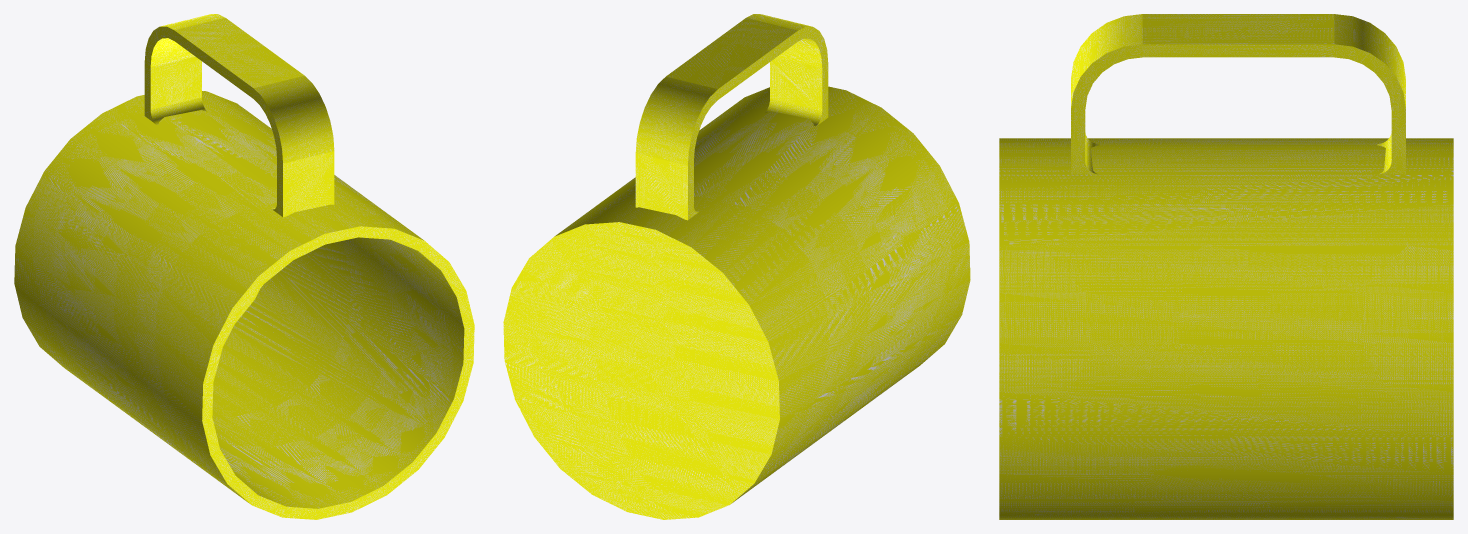
Rendered from model_scale.obj.
The picture shows the model from 3 angles, left to right: view 1: azimuth 30°, elevation 25°; view 2: azimuth 150°, elevation 25°; view 3: azimuth 270°, elevation 25°; orthographic projection. The views are drawn at different scales.
Visible parts, largest first — view 1: mesh1_mesh1-geometry, mesh2_mesh2-geometry; view 2: mesh1_mesh1-geometry, mesh2_mesh2-geometry; view 3: mesh1_mesh1-geometry, mesh2_mesh2-geometry.
Boxes of the visible parts, x1,y1,x2,y2 form: mesh1_mesh1-geometry: [14, 91, 474, 519]; mesh2_mesh2-geometry: [144, 14, 334, 217]; mesh1_mesh1-geometry: [503, 86, 970, 519]; mesh2_mesh2-geometry: [635, 14, 828, 220]; mesh1_mesh1-geometry: [999, 138, 1453, 519]; mesh2_mesh2-geometry: [1071, 14, 1405, 174].
Bounding box in the file's own units: 0.0876 × 0.1198 × 0.1045.
